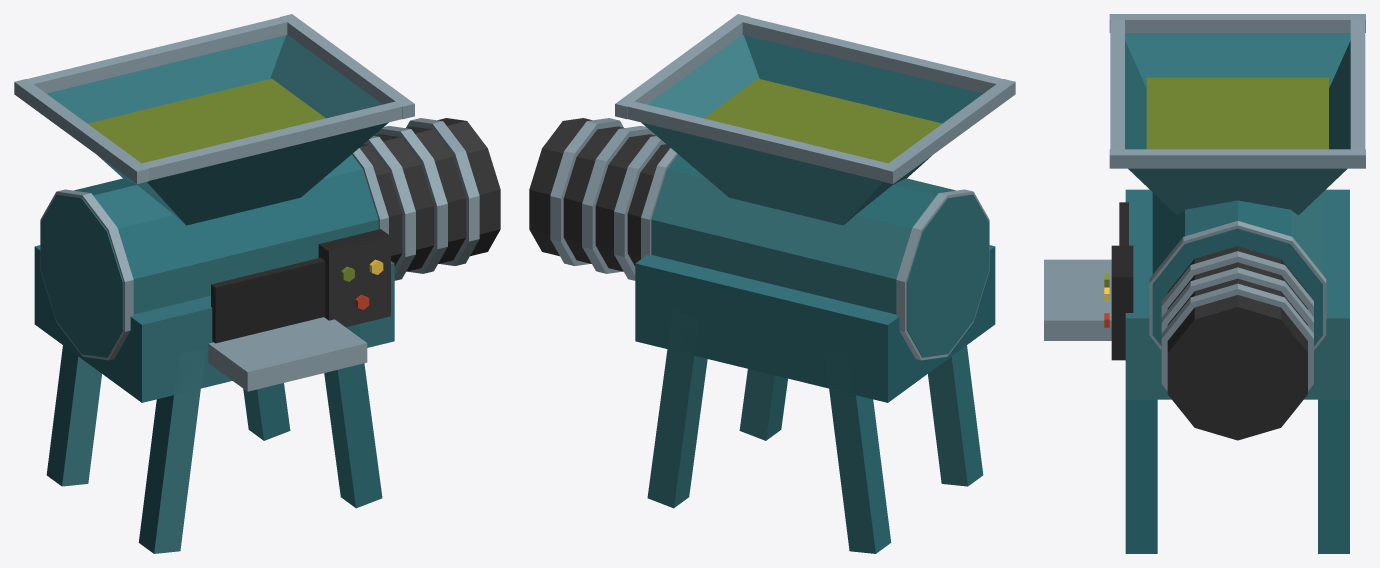
Rendered from N03_LargeMotor.fbx.
The picture shows the model from 3 angles, left to right: view 1: azimuth 30°, elevation 25°; view 2: azimuth 150°, elevation 25°; view 3: azimuth 270°, elevation 25°; orthographic projection. The views are drawn at different scales.
Visible parts, largest first — view 1: N03_LargeMotor.003; view 2: N03_LargeMotor.003; view 3: N03_LargeMotor.003.
Part boxes in pixels (<box>): N03_LargeMotor.003: <box>14,14,500,553</box>; N03_LargeMotor.003: <box>529,14,1015,553</box>; N03_LargeMotor.003: <box>1044,14,1365,553</box>.
Size of the model in its own units: 2.21 by 2.14 by 1.51.
